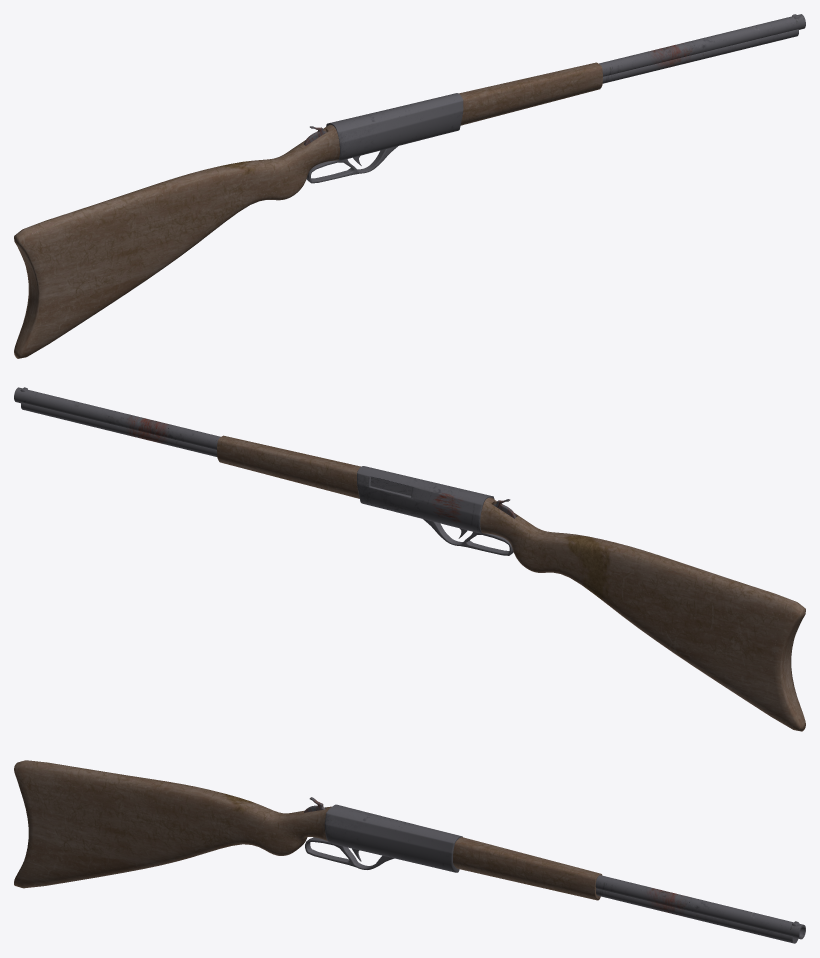
Rendered from Winchester.fbx.
The picture shows the model from 3 angles, top to bottom: view 1: azimuth 30°, elevation 25°; view 2: azimuth 150°, elevation 25°; view 3: azimuth 330°, elevation 25°; orthographic projection.
Parts seen in each view (by area): view 1: Stock, Loading_Port, Trigger_Guard; view 2: Stock, Loading_Port, Trigger_Guard; view 3: Stock, Loading_Port, Trigger_Guard.
Part boxes in pixels (x1,y1,x2,y2): Stock: (14, 62, 602, 358); Loading_Port: (326, 14, 805, 160); Trigger_Guard: (306, 146, 397, 183); Stock: (217, 435, 805, 731); Loading_Port: (14, 387, 494, 533); Trigger_Guard: (423, 519, 513, 555); Stock: (14, 760, 602, 900); Loading_Port: (324, 804, 805, 943); Trigger_Guard: (305, 837, 394, 869).
Size of the model in its own units: 571 by 111 by 19.35.
